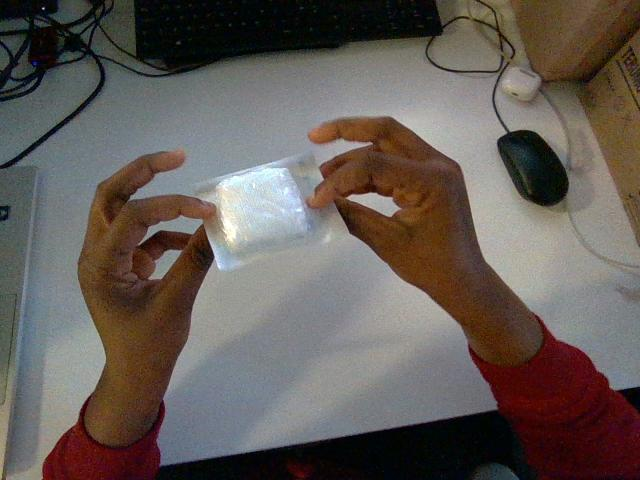gauze: (195, 154, 345, 269)
